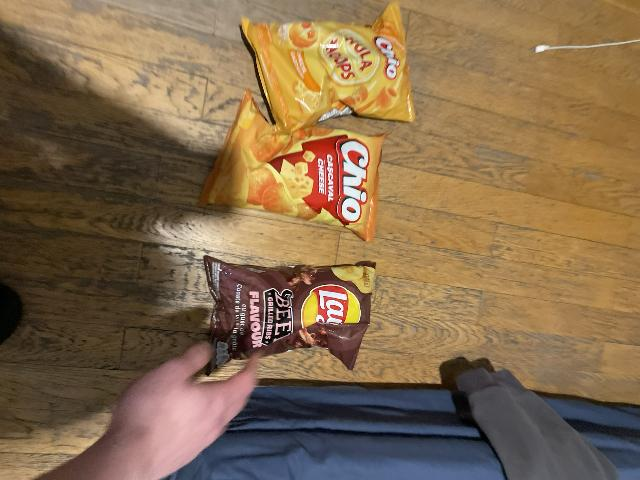Chio Hula Hoops Cheese 70g: (198, 93, 387, 240), (242, 2, 414, 132)
Lays Beef Grilled Ribs 125g: (205, 255, 376, 370)
